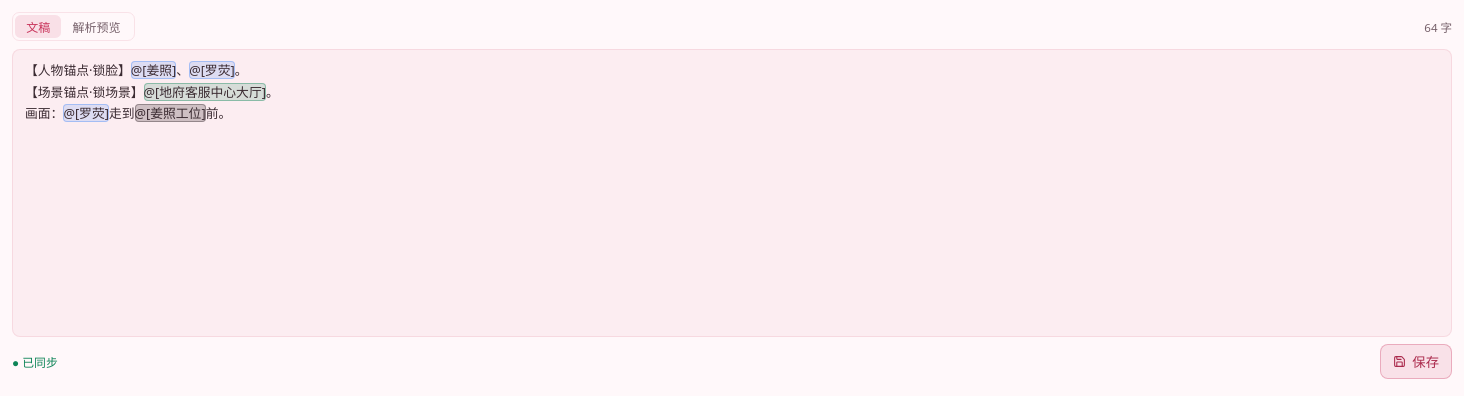
Test case: VideoPromptEditor › previews which reference image each name binds to and the text the model receives
Click the tab "解析预览" at (97, 27), box [61, 15, 132, 38]
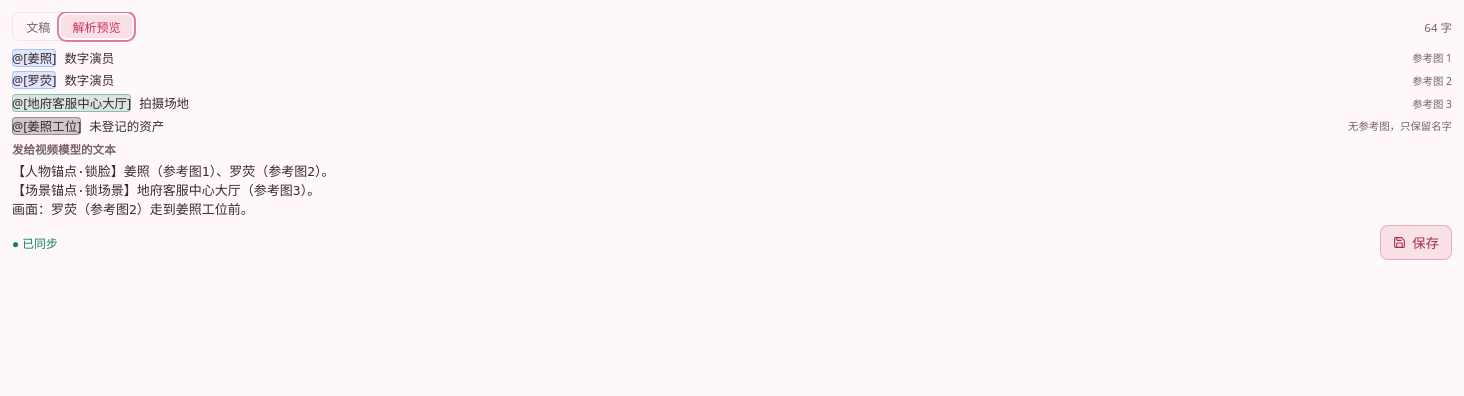
Result: the text "参考图 3" is shown at [1412, 96, 1452, 111]
Result: the text "无参考图，只保留名字" is shown at [1348, 118, 1452, 134]
Result: the text "罗荧（参考图2）走到姜照工位前" is shown at [12, 164, 334, 216]
